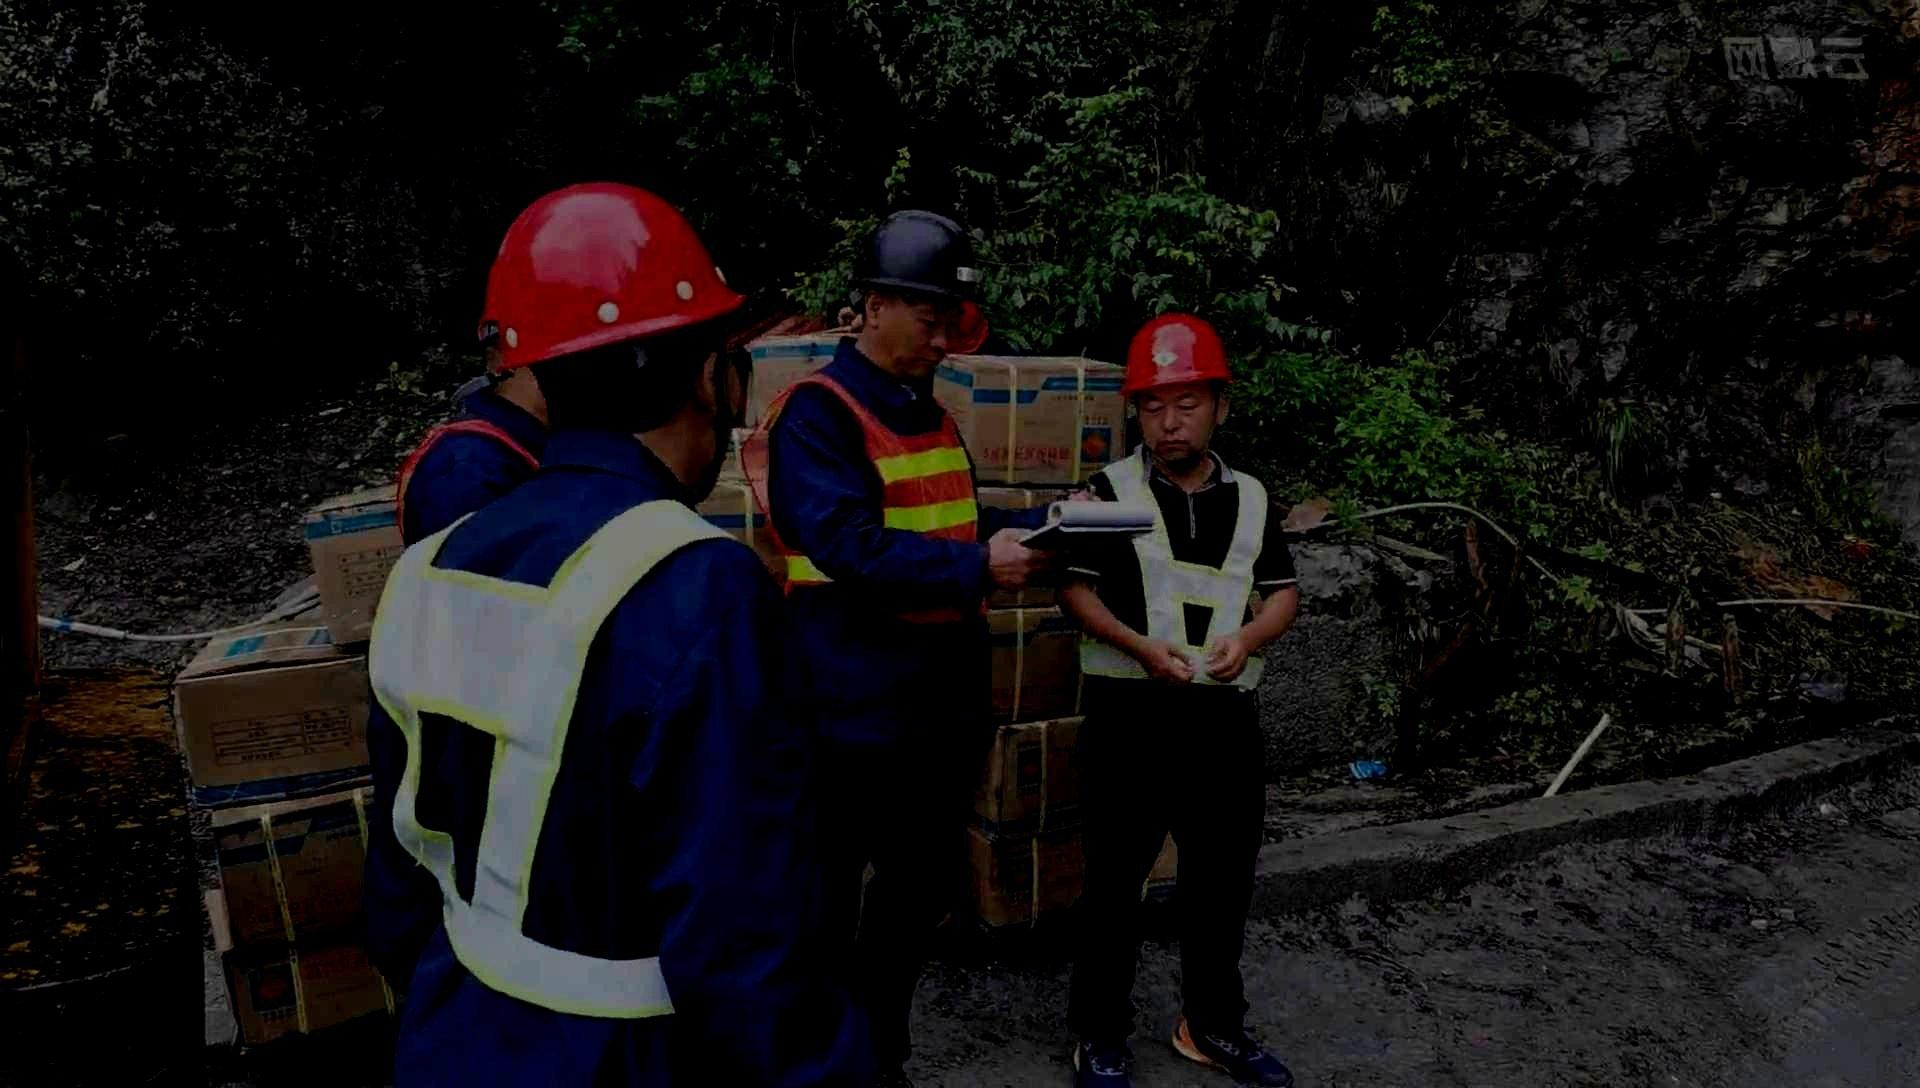helmet: (495, 182, 746, 509), (845, 208, 988, 377), (1118, 311, 1234, 462)
